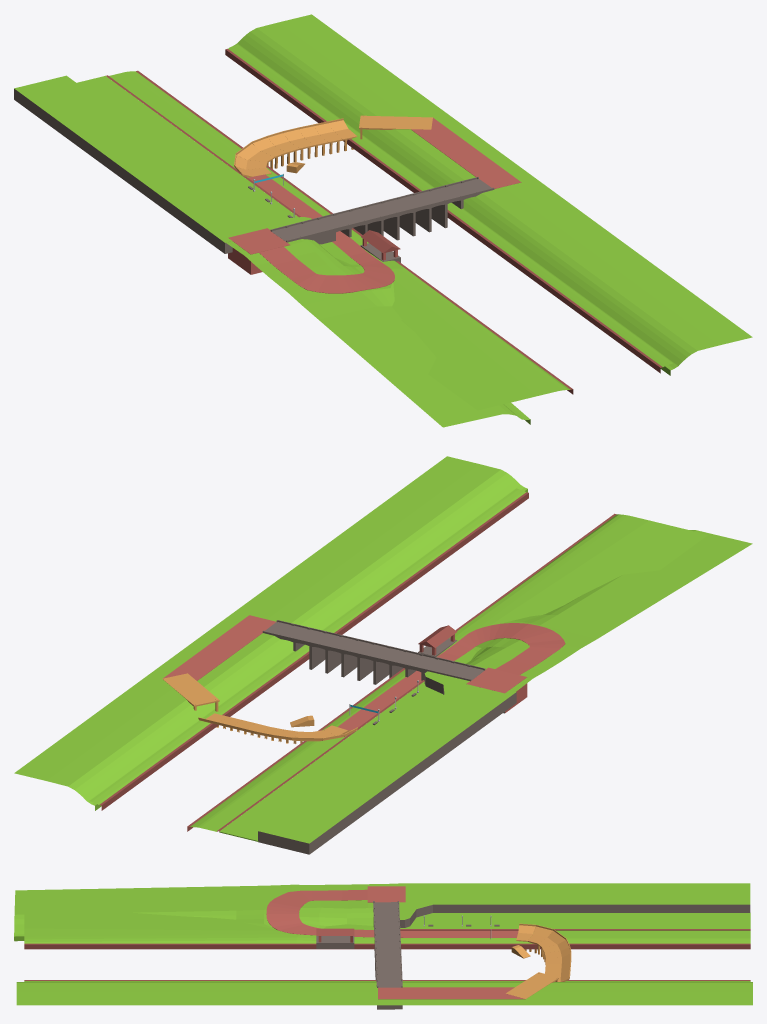
3 renders of one model, top to bottom at view 1: azimuth 30°, elevation 25°; view 2: azimuth 150°, elevation 25°; view 3: azimuth 270°, elevation 25°, orthographic. The views are drawn at different scales.
Parts seen in each view (by area): view 1: Hill 2, Offroad1, Wall, Hill, Borders, Road Bridge, Cube.004, Cube.002, Cube.003, Cube, Intersection1, Road Bridge NoGap (+1 smaller); view 2: Hill 2, Offroad1, Wall, Hill, Borders, Road Bridge, Cube.002, Cube.003, Cube.004, Cube, Intersection1, RoadWood2 (+1 smaller); view 3: Offroad1, Hill 2, Wall, Hill, Borders, Cube.002, Road Bridge, Cube.004, Cube.003, Cube, RoadWood2, Intersection1 (+3 smaller).
Part boxes in pixels (x1,y1,x2,y2): Hill 2: [229, 14, 752, 375]; Offroad1: [77, 45, 672, 410]; Wall: [14, 75, 311, 253]; Hill: [226, 239, 530, 427]; Borders: [106, 48, 662, 394]; Road Bridge: [319, 177, 494, 240]; Cube.004: [234, 118, 357, 177]; Cube.002: [259, 246, 394, 293]; Cube.003: [411, 118, 521, 188]; Cube: [248, 174, 366, 255]; Intersection1: [228, 228, 289, 274]; Road Bridge NoGap: [270, 217, 334, 244]; Hill 2: [14, 456, 527, 810]; Offroad1: [89, 488, 708, 841]; Wall: [258, 671, 516, 854]; Hill: [466, 530, 752, 691]; Borders: [99, 492, 616, 831]; Road Bridge: [262, 620, 436, 684]; Cube.002: [443, 623, 565, 674]; Cube.003: [163, 615, 276, 680]; Cube.004: [198, 713, 357, 743]; Cube: [338, 652, 459, 730]; Intersection1: [466, 667, 527, 713]; RoadWood2: [162, 673, 219, 711]; Offroad1: [24, 904, 750, 981]; Hill 2: [16, 982, 752, 1005]; Wall: [398, 883, 750, 927]; Hill: [14, 883, 398, 941]; Borders: [24, 929, 750, 980]; Cube.002: [266, 889, 367, 935]; Road Bridge: [374, 920, 402, 1009]; Cube.004: [516, 923, 571, 981]; Cube.003: [378, 987, 525, 999]; Cube: [354, 929, 518, 937]; RoadWood2: [506, 972, 558, 998]; Intersection1: [367, 886, 405, 902].
Size of the model in its own units: 346 by 38.06 by 855.
